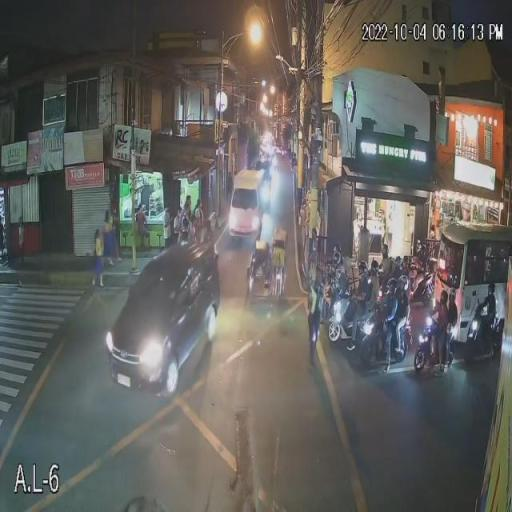helmet: (385, 276, 398, 296), (398, 274, 410, 294), (356, 259, 368, 278), (332, 250, 343, 269), (447, 285, 457, 304), (370, 259, 380, 276), (439, 290, 449, 305), (486, 282, 495, 296)
motorcycle: (359, 315, 413, 363), (413, 319, 456, 373), (463, 311, 503, 355), (328, 292, 363, 342)
rider: (380, 300, 398, 376), (348, 280, 368, 346), (394, 296, 412, 355), (445, 304, 460, 372), (436, 304, 449, 378), (481, 295, 499, 341), (366, 274, 382, 316)
